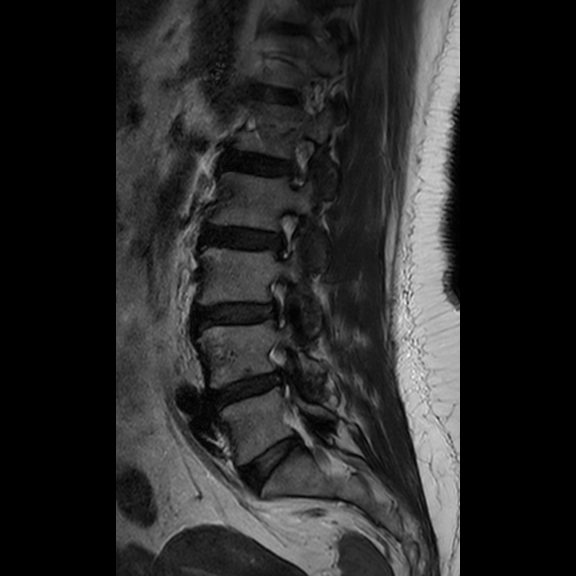LFS0: (273, 133, 322, 197)
LFS1: (259, 204, 307, 269), (251, 270, 296, 331)
